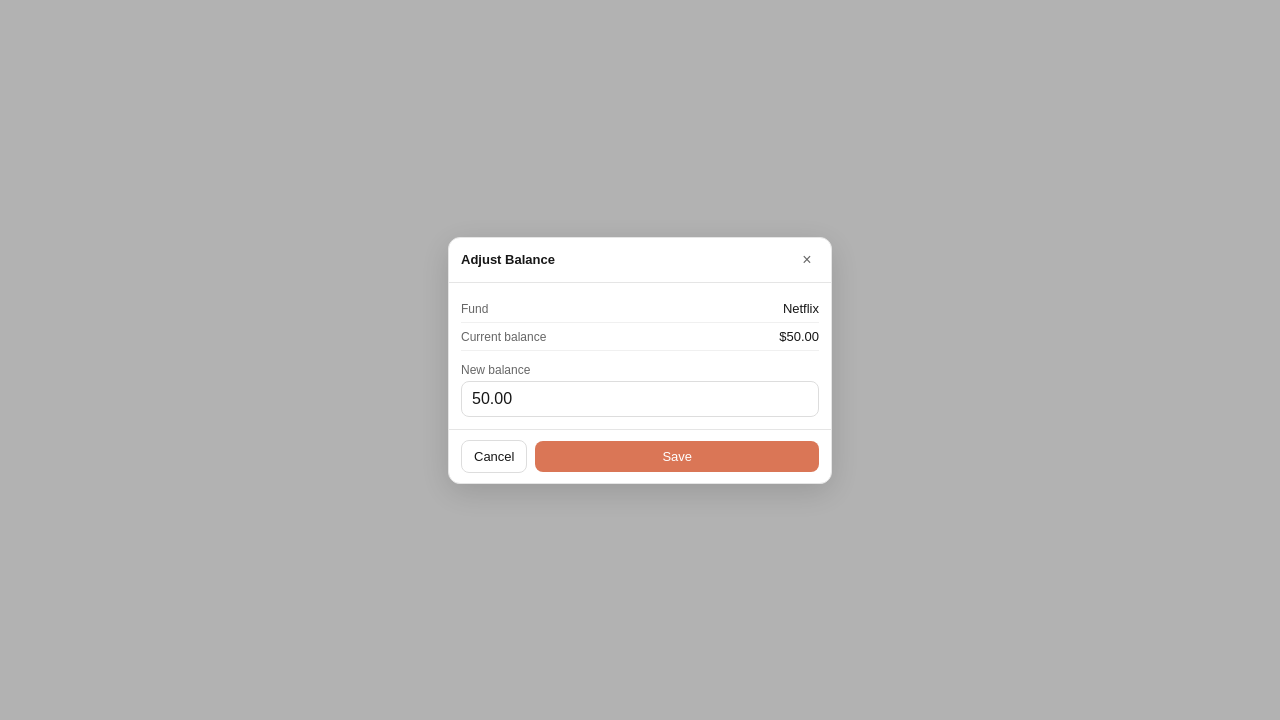
it: AdjustBalanceModal › validates negative balance
Replace the text in the number field with test id "adjust-balance-modal-input" with "-5" at (640, 398), box 461,380 -> 819,416
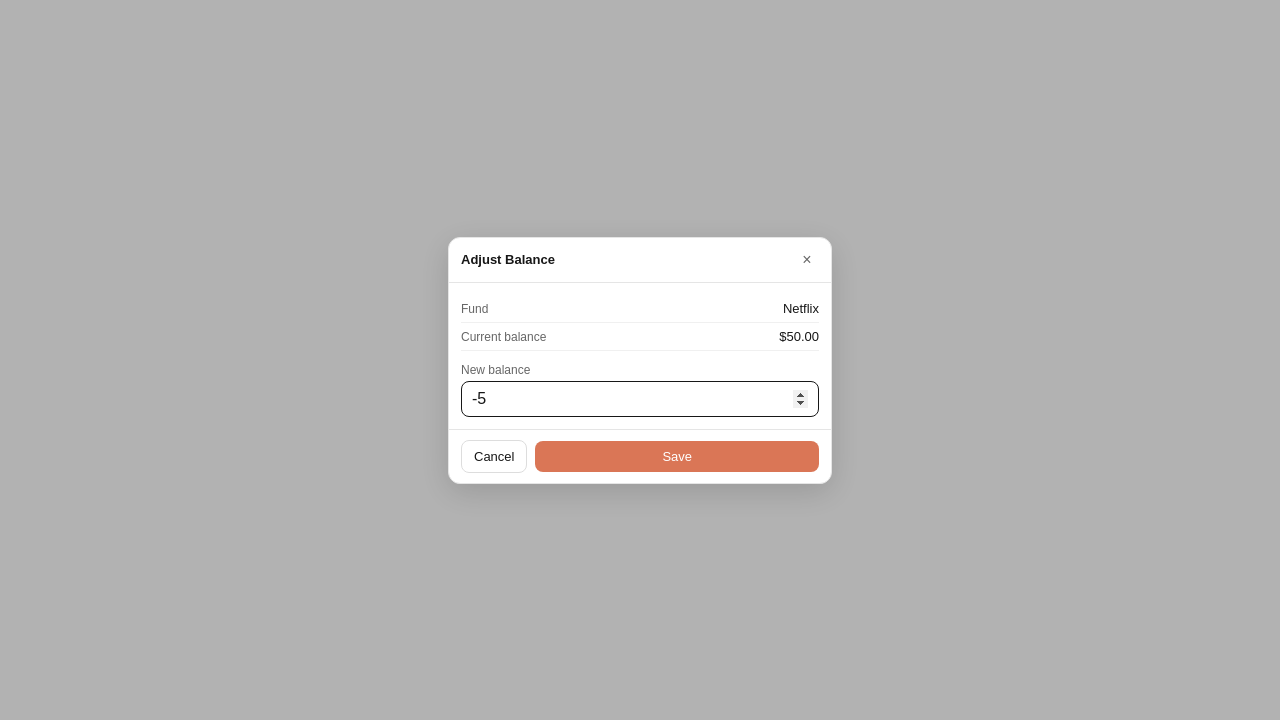
Click the button with test id "adjust-balance-modal-save".
click(677, 456)  # box 536,440 -> 819,472
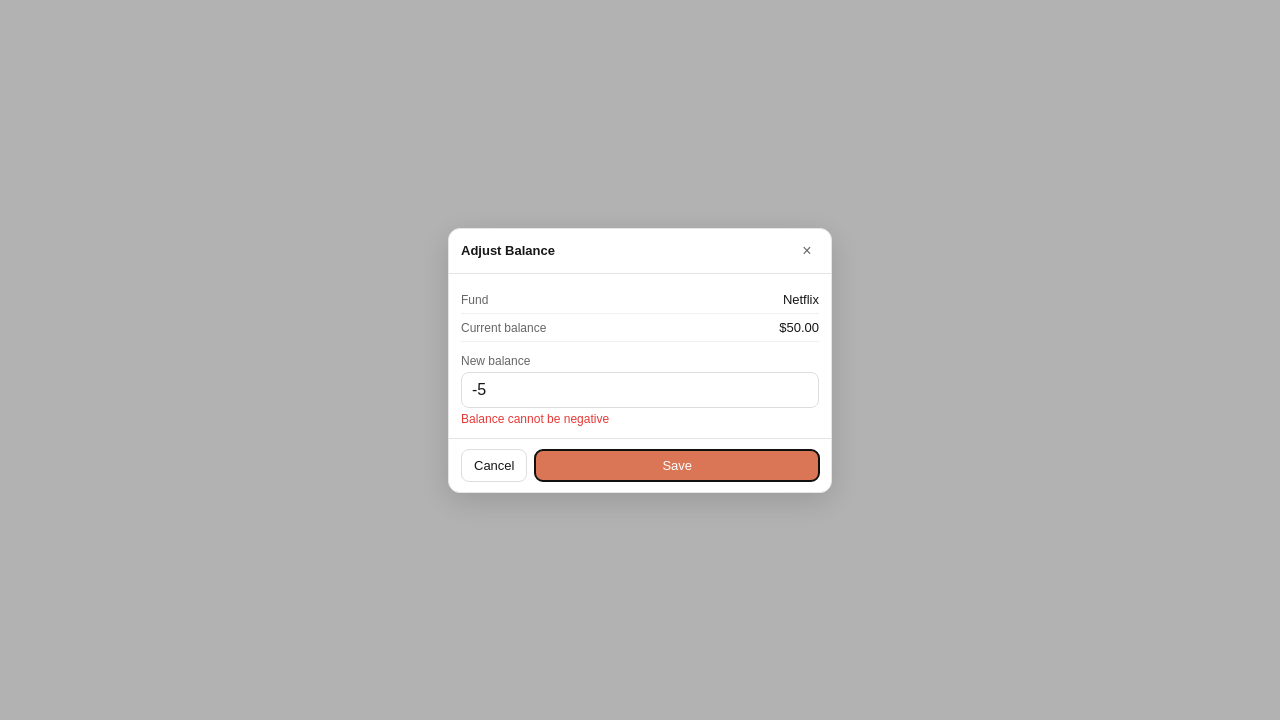
Expected: the text with test id "adjust-balance-modal-validation-error" reads "Balance cannot be negative", 461,412 -> 609,426
